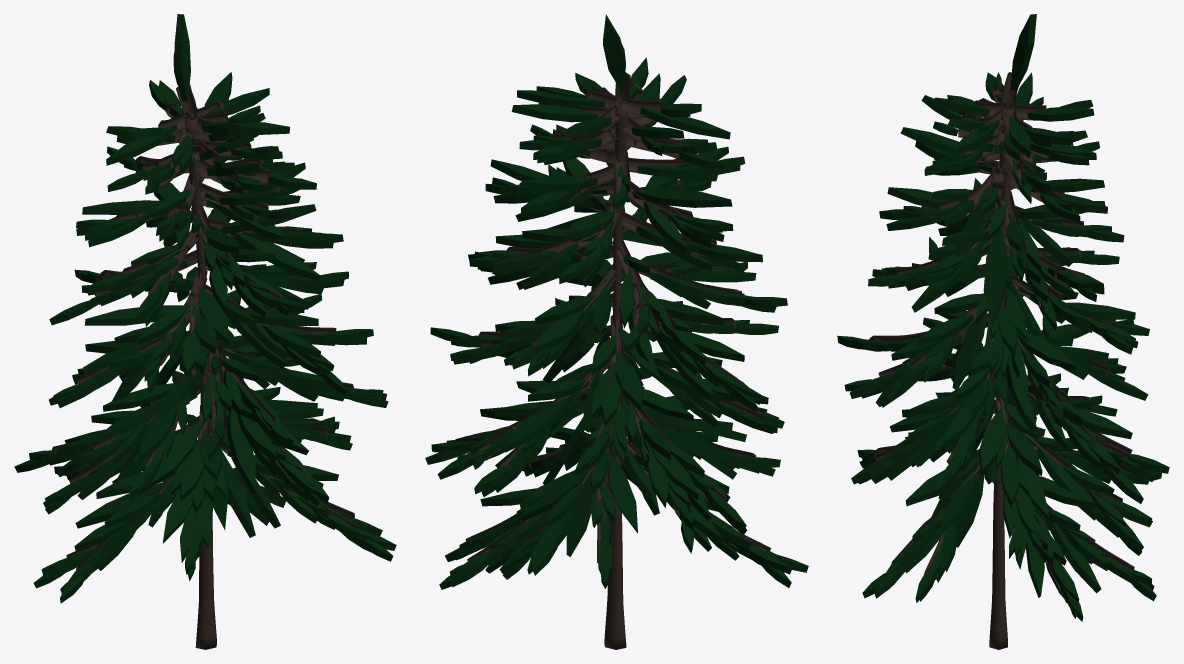
File: Tree1.fbx
The picture shows the model from 3 angles, left to right: view 1: azimuth 30°, elevation 25°; view 2: azimuth 150°, elevation 25°; view 3: azimuth 270°, elevation 25°; orthographic projection. The views are drawn at different scales.
Parts seen in each view (by area): view 1: tree.001; view 2: tree.001; view 3: tree.001.
Boxes of the visible parts, x1,y1,x2,y2 form: tree.001: (14,14,396,649); tree.001: (425,14,808,649); tree.001: (837,14,1169,649).
Size of the model in its own units: 1766 by 3191 by 1531.
